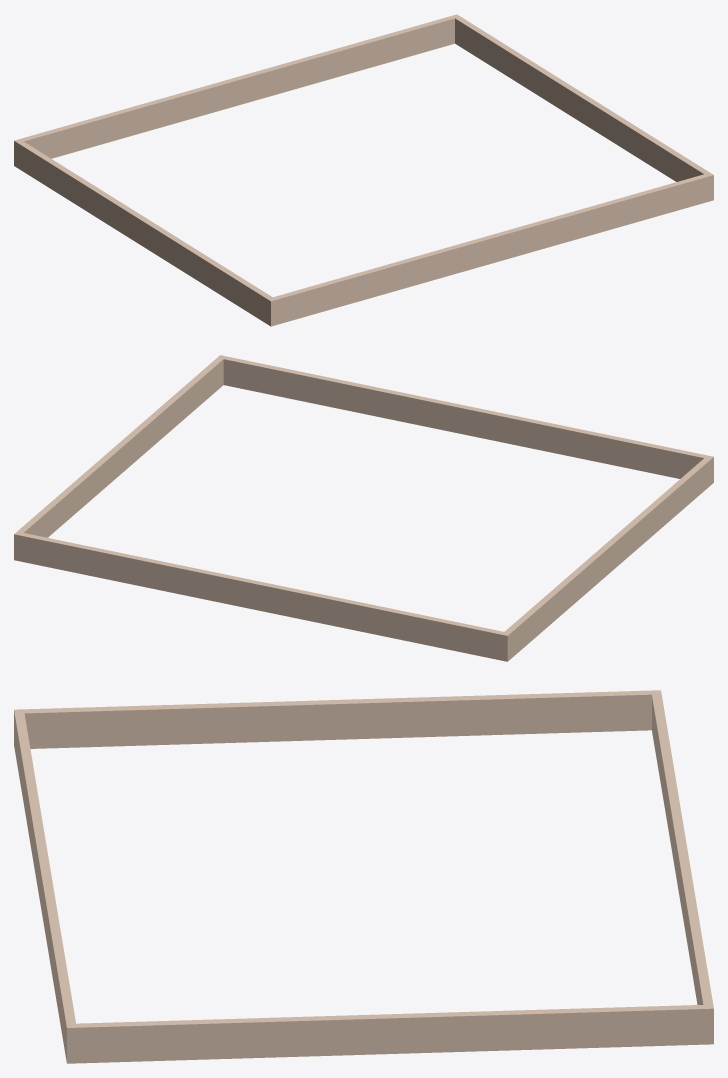
3 renders of one model, top to bottom at view 1: azimuth 30°, elevation 25°; view 2: azimuth 150°, elevation 25°; view 3: azimuth 270°, elevation 25°, orthographic. The views are drawn at different scales.
Visible parts, largest first — view 1: SM_6849046182d43b73ec3b; view 2: SM_6849046182d43b73ec3b; view 3: SM_6849046182d43b73ec3b.
Boxes of the visible parts, x1,y1,x2,y2 form: SM_6849046182d43b73ec3b: (14,14,713,326); SM_6849046182d43b73ec3b: (14,355,713,661); SM_6849046182d43b73ec3b: (14,690,713,1063).
Bounding box in the file's own units: 14.52 × 12.72 × 0.715.
